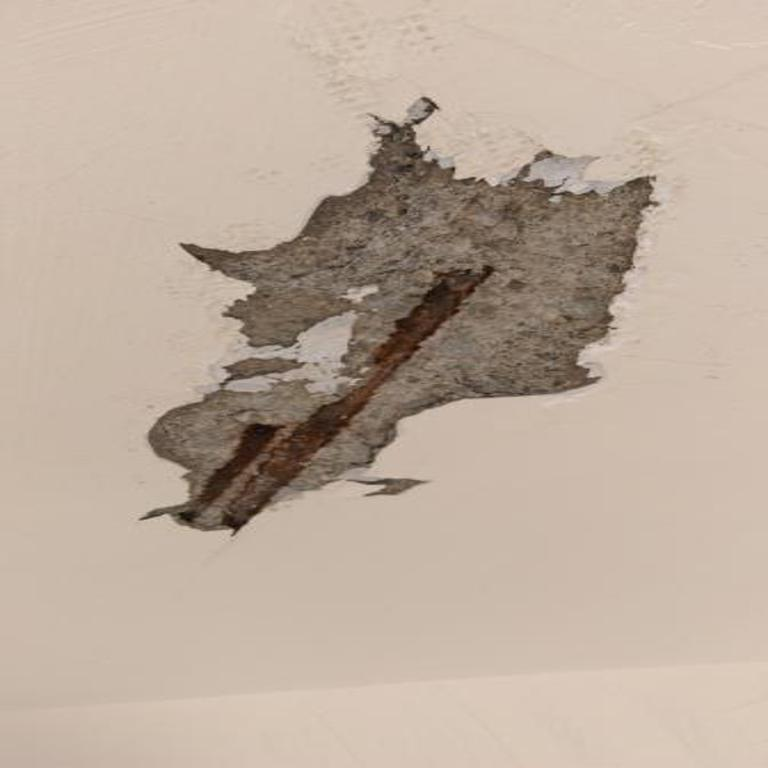exposed_rebar: (224, 266, 492, 529), (147, 424, 280, 522)
spalling: (146, 98, 652, 530), (224, 357, 303, 383)
